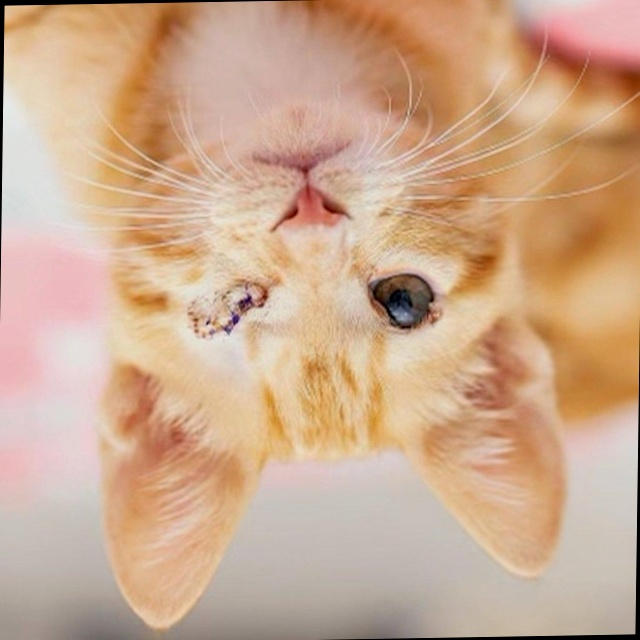eye_infection: (356, 270, 438, 332)
